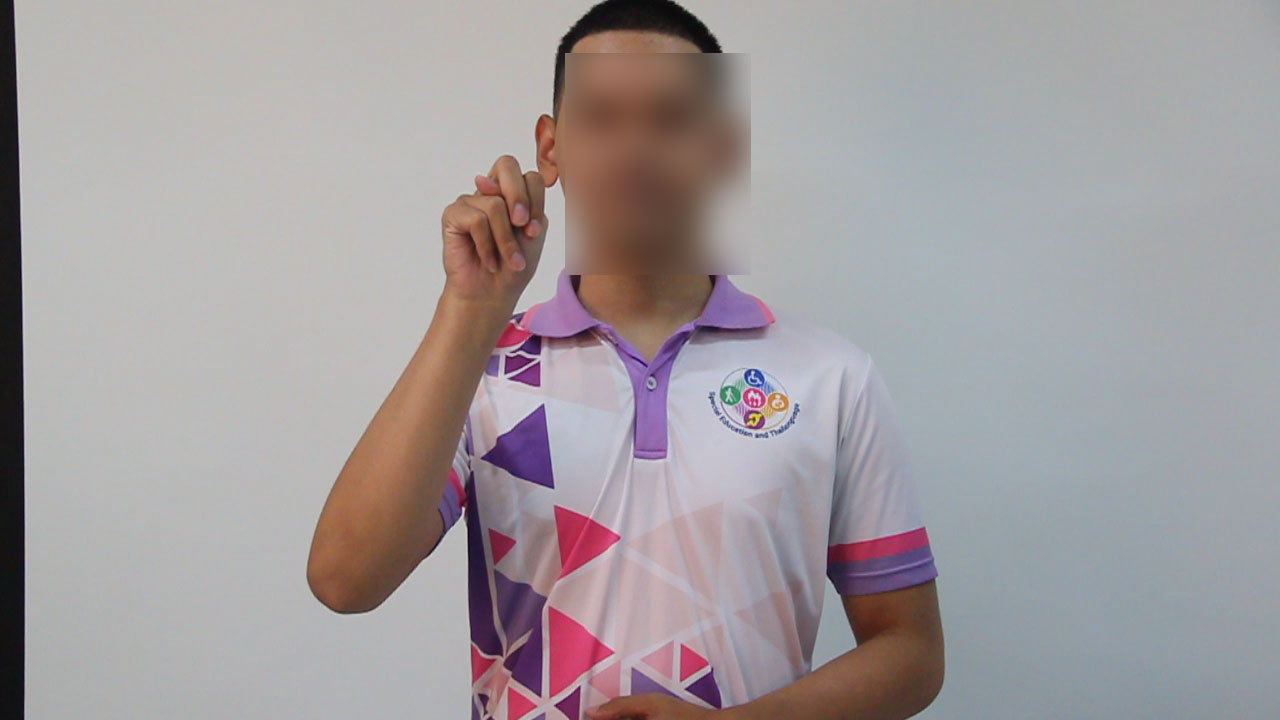nor: (421, 151, 559, 301)
